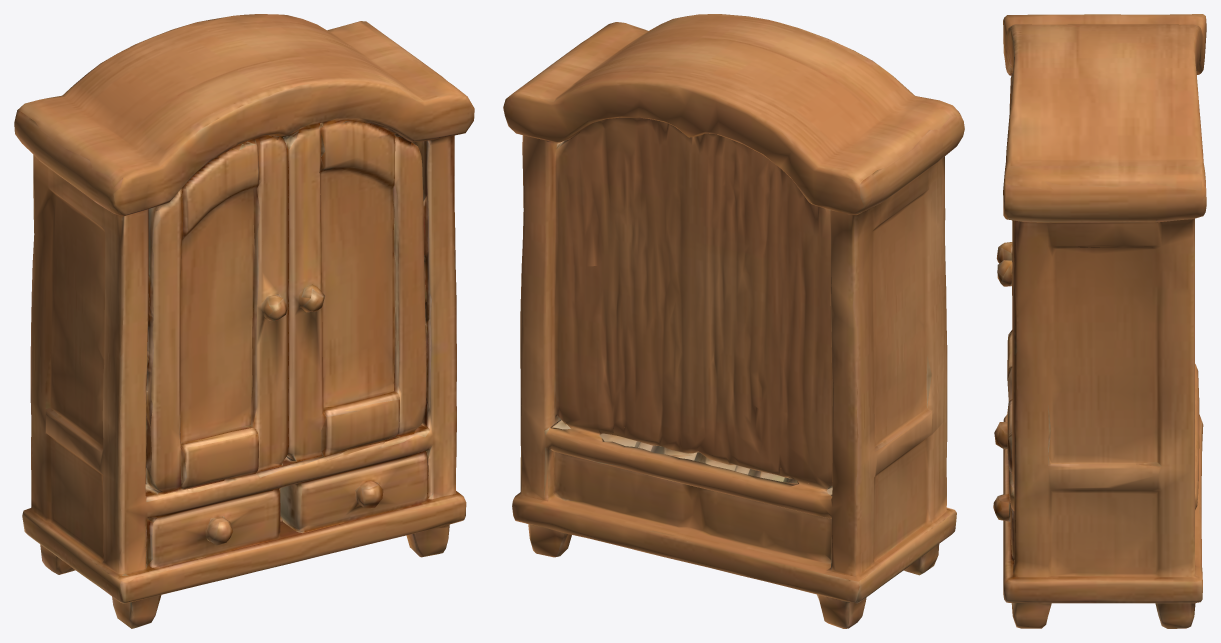
File: Wood_wardrobe_antique.glb
The picture shows the model from 3 angles, left to right: view 1: azimuth 30°, elevation 25°; view 2: azimuth 150°, elevation 25°; view 3: azimuth 270°, elevation 25°; orthographic projection.
Visible parts, largest first — view 1: Mesh_0; view 2: Mesh_0; view 3: Mesh_0.
Part boxes in pixels (<box>): Mesh_0: <box>14,14,474,628</box>; Mesh_0: <box>503,14,964,628</box>; Mesh_0: <box>993,14,1206,628</box>.
Bounding box in the file's own units: 1.44 × 1.91 × 0.7362.
Materials: 1 (1 with a texture image).
